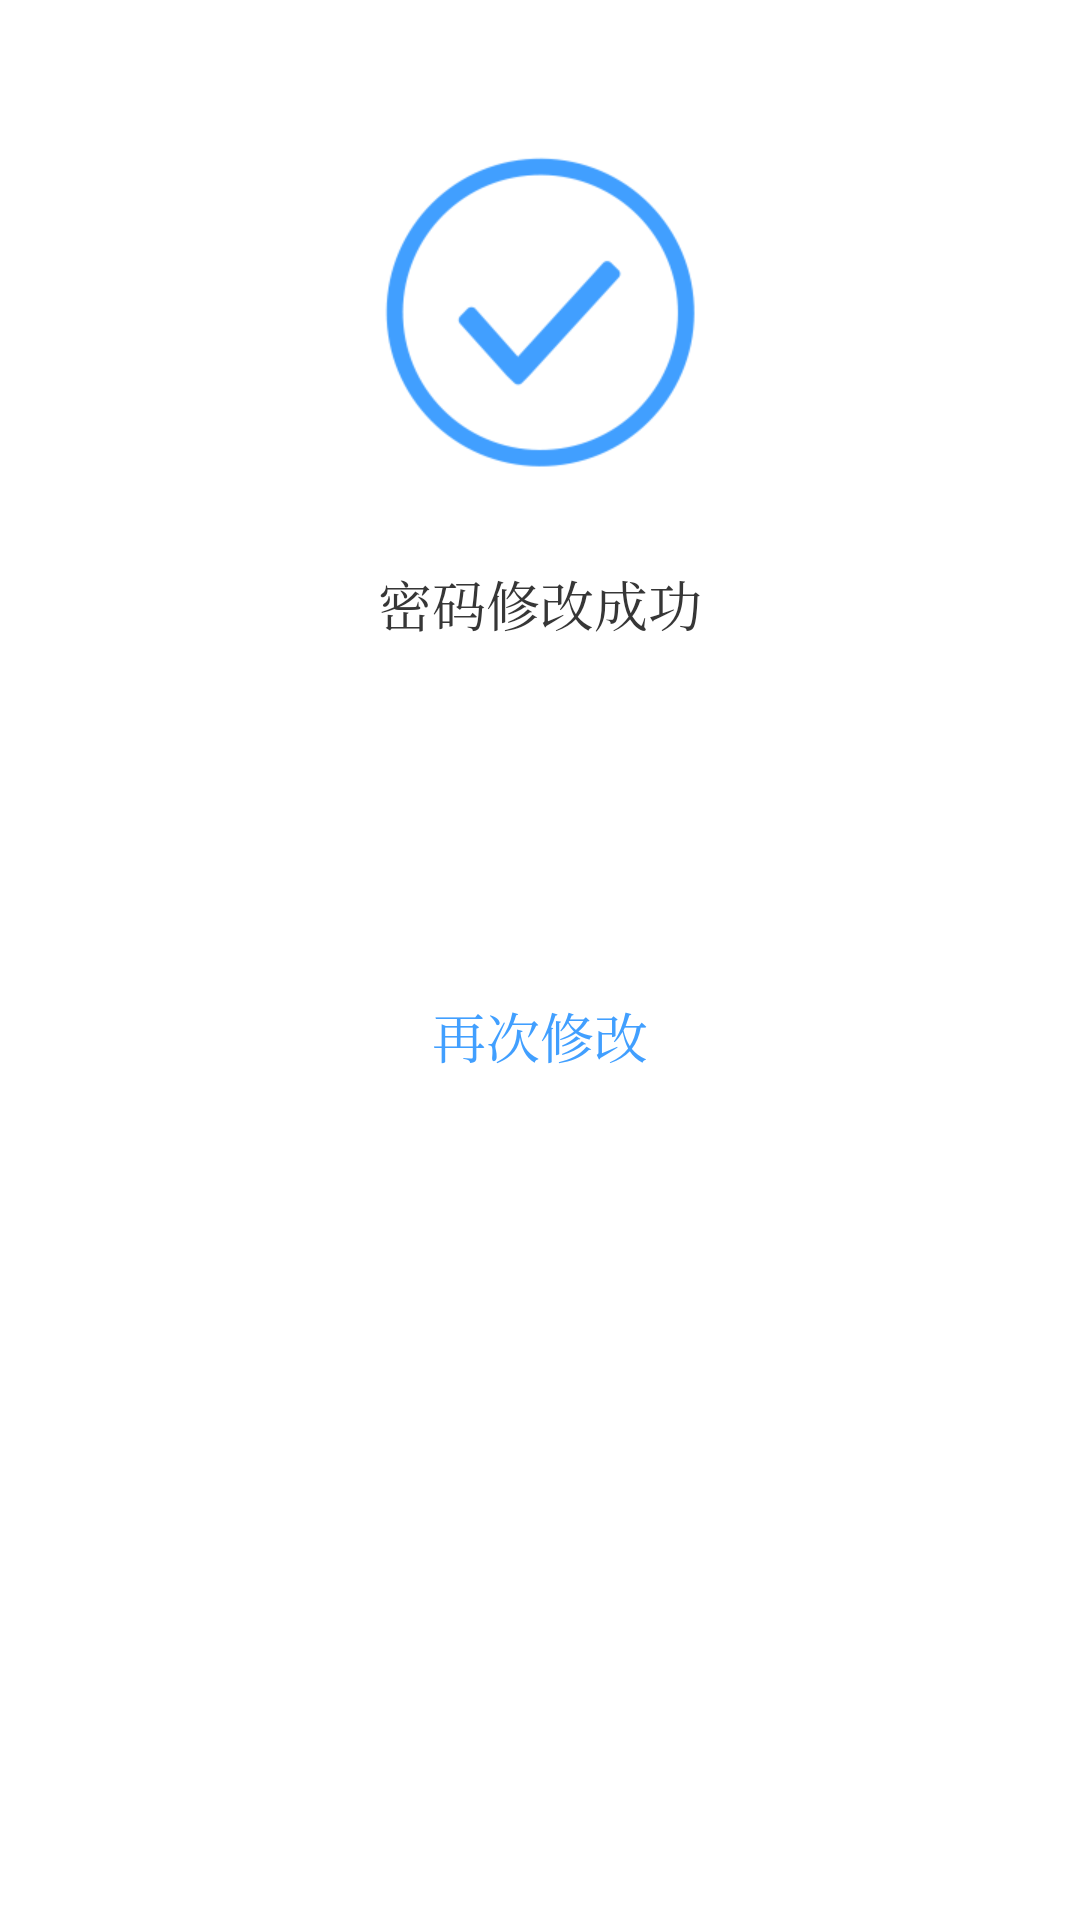

Point at icon controls on the screen. Image size 1080 x 1920, points as point (x, y).
done: point (540, 312)
